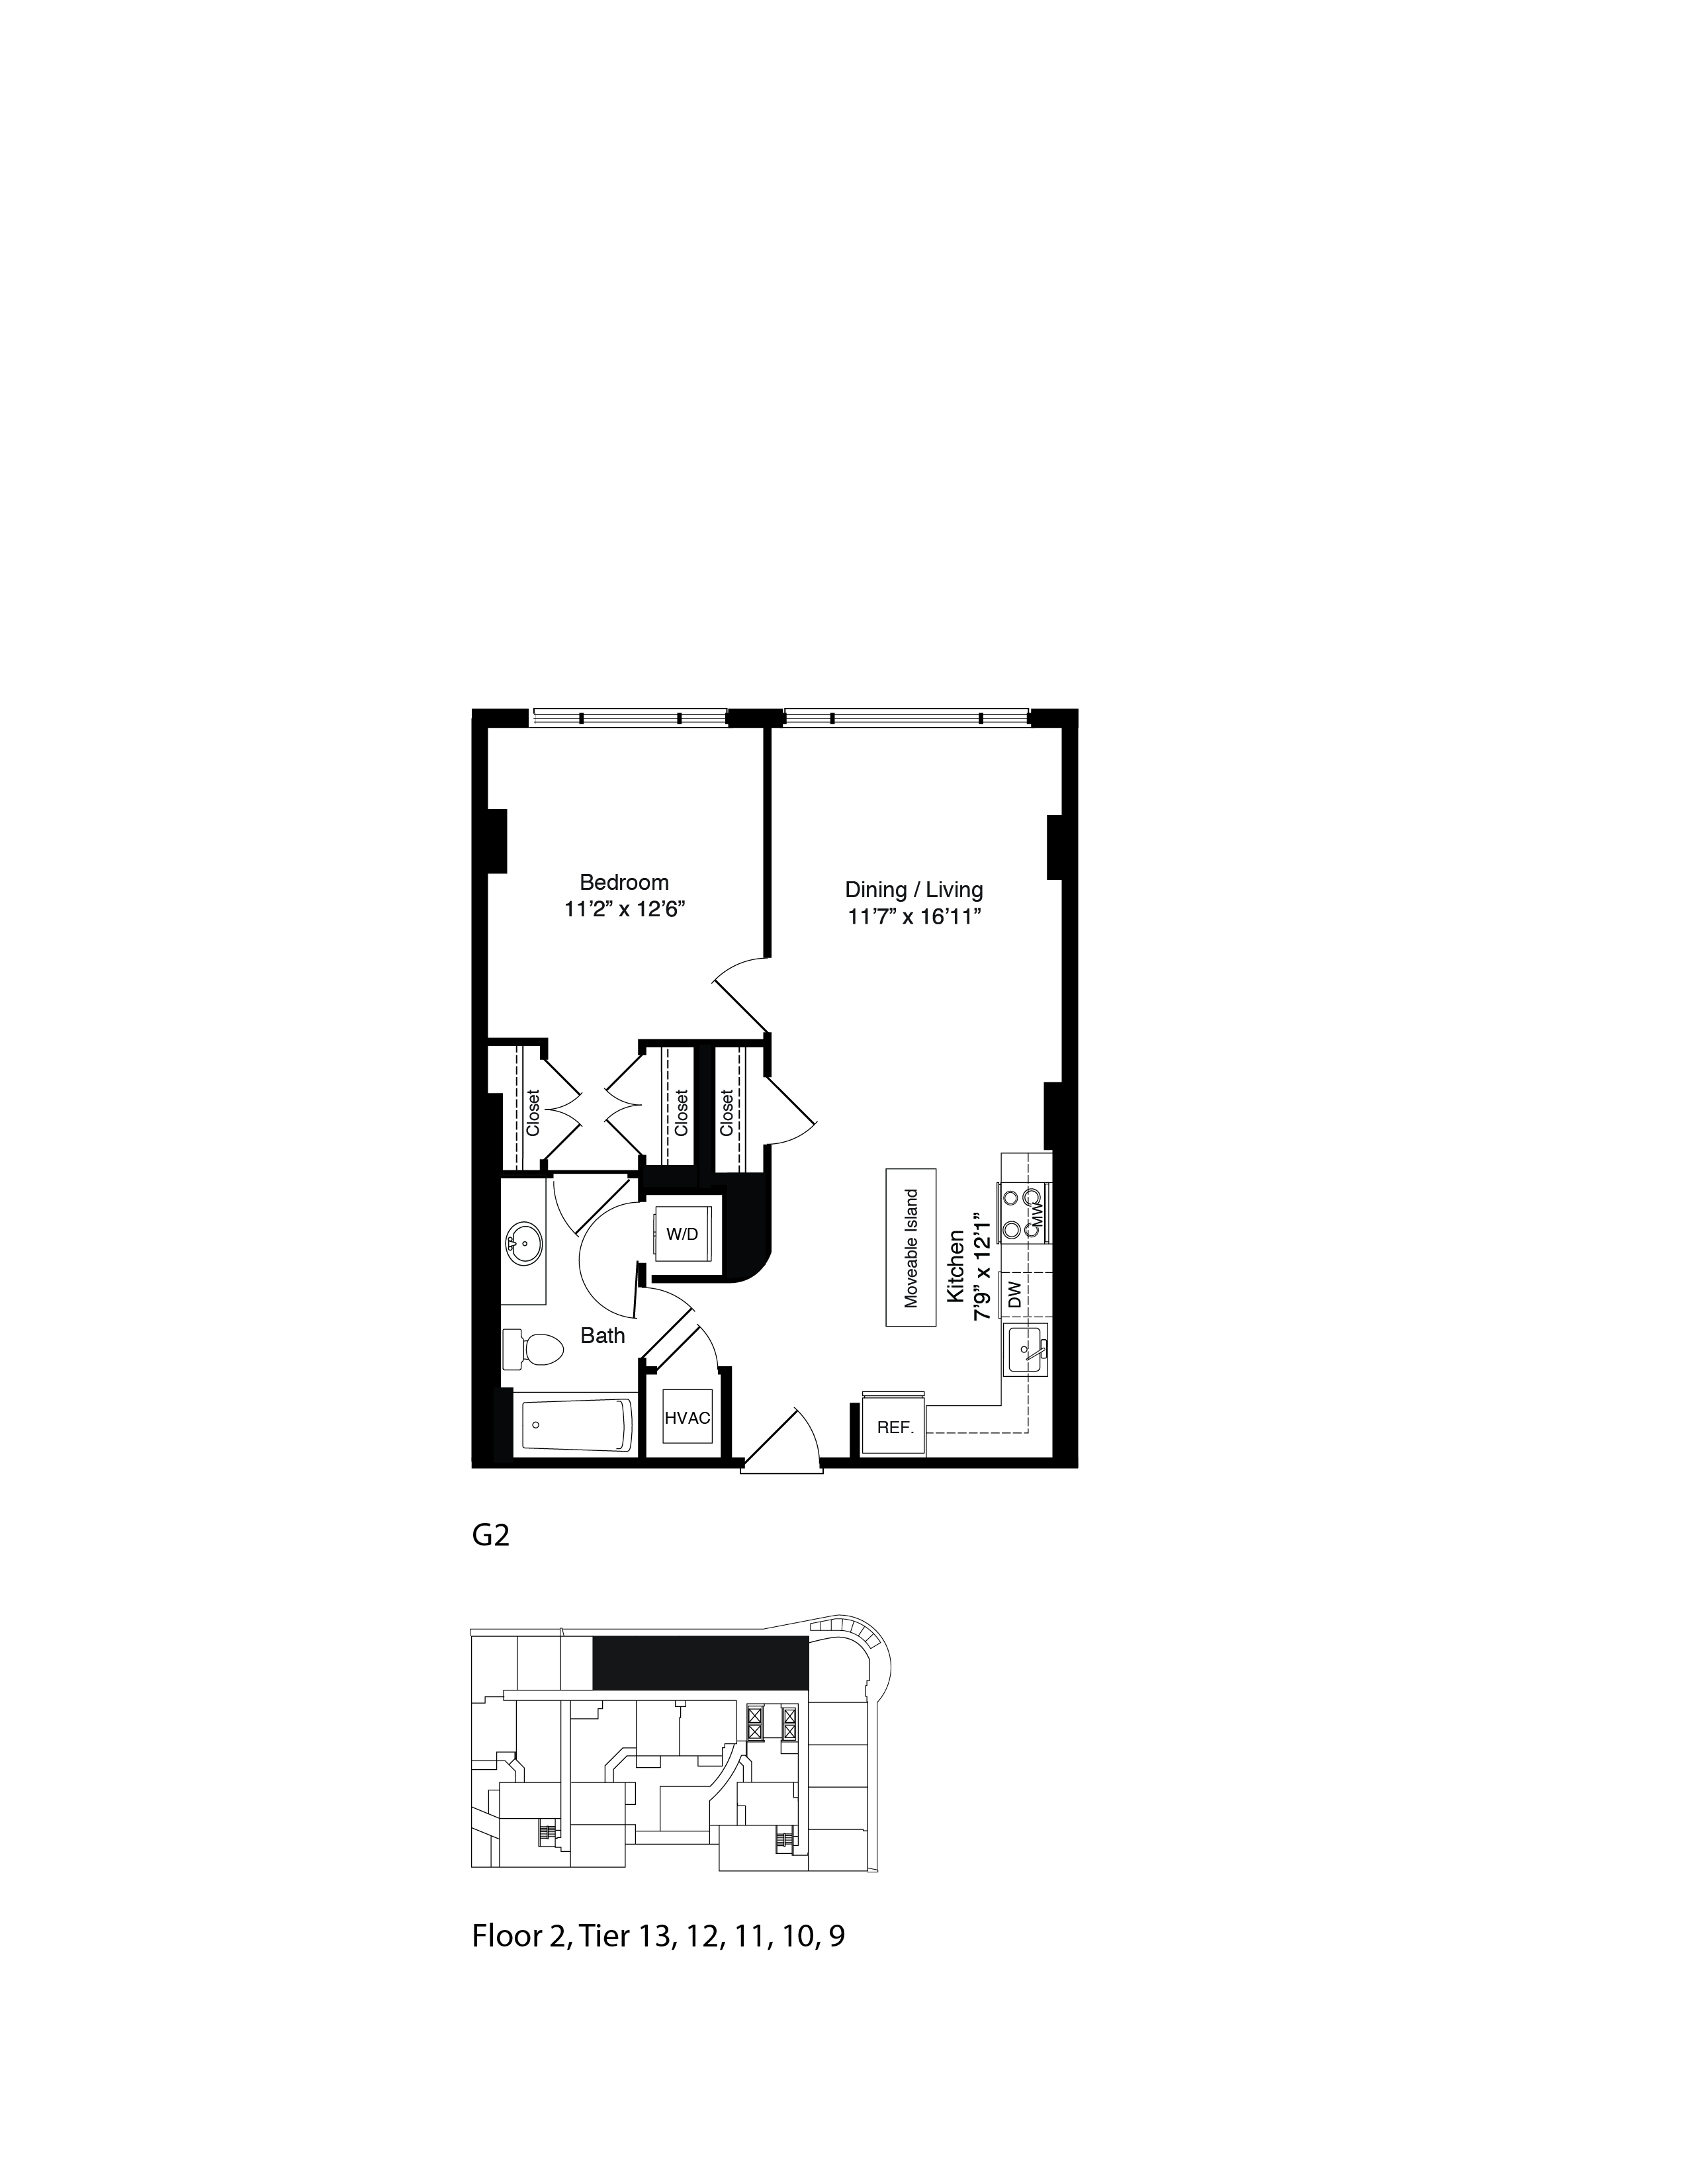door: (746, 1404, 823, 1470), (537, 1064, 589, 1158), (606, 1060, 656, 1156), (709, 956, 768, 1028), (762, 1074, 821, 1145)
